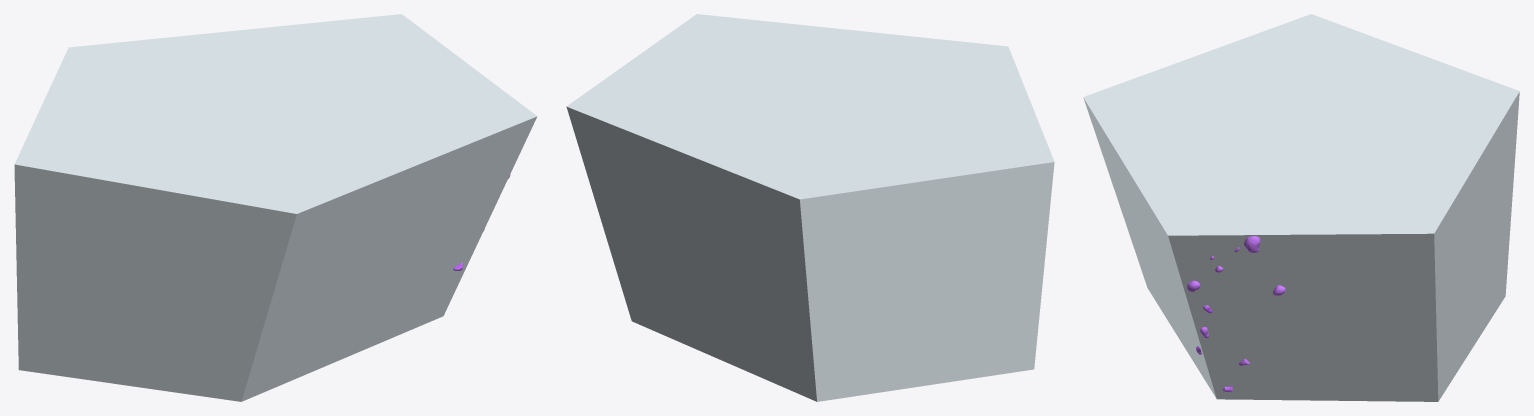
The model's file is bolkabe.obj.
The picture shows the model from 3 angles, left to right: view 1: azimuth 30°, elevation 25°; view 2: azimuth 150°, elevation 25°; view 3: azimuth 270°, elevation 25°; orthographic projection. The views are drawn at different scales.
Parts seen in each view (by area): view 1: Bol1; view 2: Bol1; view 3: Bol1.
Boxes of the visible parts, left/top/right/bottom form: Bol1: left=14, top=14, right=537, bottom=401; Bol1: left=566, top=14, right=1054, bottom=401; Bol1: left=1083, top=14, right=1519, bottom=401.
Size of the model in its own units: 86.81 by 39.52 by 74.19.
1 material, 1 textured.
